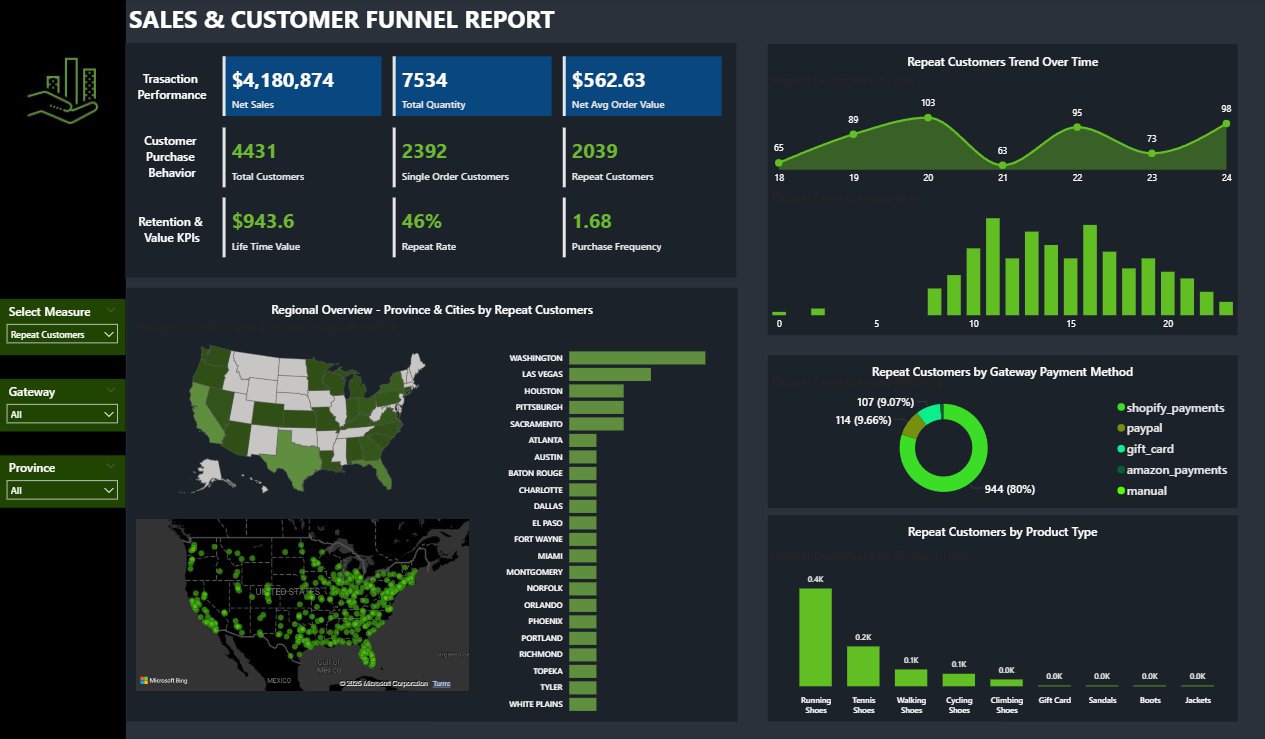

The dashboard page shown, as its layout file describes it:
{"tool":"powerbi","page":{"name":"Shopify Analysis","canvas":[1700,1000],"ordinal":0},"visuals":[{"type":"shape","box":[0,0,170,999],"z":0},{"type":"textbox","box":[169.2,0,754,58.6],"z":1000},{"type":"shape","box":[169.2,58.6,819.4,315],"z":2000},{"type":"cardVisual","fields":{"Data":["shopify_sales.Net Sales","shopify_sales.Total Quantity","shopify_sales.Net Avg Order Value"]},"box":[294.9,72.1,680.3,90.5],"z":3000},{"type":"card","fields":{"Values":["shopify_sales.Transaction Perf"]},"box":[169.2,82.1,125.7,70.4],"z":4000},{"type":"cardVisual","fields":{"Data":["shopify_sales.Total Customers","shopify_sales.Single Order Customers","shopify_sales.Repeat Customers"]},"box":[294.9,166.7,680.3,90.5],"z":5000},{"type":"card","fields":{"Values":["shopify_sales.Customer Purchase Behavior"]},"box":[169.2,160,125.7,93.8],"z":6000},{"type":"cardVisual","fields":{"Data":["shopify_sales.Life Time Value","shopify_sales.Repeat Rate","shopify_sales.Purchase Frequency"]},"box":[294.9,261.4,680.3,90.5],"z":7000},{"type":"card","fields":{"Values":["shopify_sales.Retention & Value KPIs"]},"box":[169.2,261.4,125.7,93.8],"z":8000},{"type":"shape","box":[170.9,387.1,819.4,581.4],"z":9000},{"type":"shapeMap","fields":{"Value":["shopify_sales.Total Customers"],"Category":["shopify_sales.Billing Address Province"]},"box":[179.3,429,455.8,249.7],"z":10000},{"type":"slicer","fields":{"Values":["Select Measure.Select Measure"]},"box":[0,402.1,169.2,75.4],"z":11000},{"type":"map","fields":{"Category":["shopify_sales.Location"]},"box":[179.3,692,455.8,241.3],"z":12000},{"type":"clusteredBarChart","fields":{"Y":["shopify_sales.Total Customers"],"Category":["shopify_sales.CITY"]},"box":[673.6,450.7,315,517.8],"z":13000},{"type":"card","fields":{"Values":["shopify_sales.Map Title"]},"box":[316.7,402.1,527.8,33.5],"z":14000},{"type":"shape","box":[1030.5,60.3,630,390.4],"z":15000},{"type":"areaChart","fields":{"Y":["shopify_sales.Total Customers"],"Category":["shopify_sales.Invoice Date.Variation.Date Hierarchy.Day"]},"box":[1030.5,98.9,630,159.2],"z":16000},{"type":"clusteredColumnChart","fields":{"Y":["shopify_sales.Total Customers"],"Category":["shopify_sales.Hour"]},"box":[1030.5,256.4,630,197.7],"z":17000},{"type":"card","fields":{"Values":["shopify_sales.Trend Title"]},"box":[1204.8,72.1,281.5,26.8],"z":18000},{"type":"shape","box":[1030.5,477.5,630,205],"z":19000},{"type":"donutChart","fields":{"Y":["shopify_sales.Total Customers"],"Category":["shopify_sales.Gateway"]},"box":[1030.5,502.7,630,179.3],"z":20000},{"type":"card","fields":{"Values":["shopify_sales.Gateway Title"]},"box":[1151.1,487.6,388.7,28.5],"z":21000},{"type":"shape","box":[1030.5,692,630,276.5],"z":22000},{"type":"columnChart","fields":{"Y":["shopify_sales.Total Customers"],"Category":["shopify_sales.Product Type"]},"box":[1030.5,735.6,630,232.9],"z":23000},{"type":"card","fields":{"Values":["shopify_sales.Product Title"]},"box":[1142.8,697.1,405.5,38.5],"z":24000},{"type":"slicer","fields":{"Values":["shopify_sales.Gateway"]},"box":[0,509.4,169.2,70.4],"z":26000},{"type":"slicer","fields":{"Values":["shopify_sales.Billing Address Province"]},"box":[0,611.6,169.2,70.4],"z":27000},{"type":"image","box":[23.5,60.3,124,125.7],"z":27001}]}

Visuals, with their boxes in screenshot pixels (x1, y1, x2, y2), scaled from the page's 1700x1000 canvas onto the 1265x739 screenshot:
shape: x1=0 y1=0 x2=126 y2=738
textbox: x1=126 y1=0 x2=687 y2=43
shape: x1=126 y1=43 x2=736 y2=276
cardVisual - shopify_sales.Net Sales x shopify_sales.Total Quantity: x1=219 y1=53 x2=726 y2=120
card - shopify_sales.Transaction Perf: x1=126 y1=61 x2=219 y2=113
cardVisual - shopify_sales.Total Customers x shopify_sales.Single Order Customers: x1=219 y1=123 x2=726 y2=190
card - shopify_sales.Customer Purchase Behavior: x1=126 y1=118 x2=219 y2=188
cardVisual - shopify_sales.Life Time Value x shopify_sales.Repeat Rate: x1=219 y1=193 x2=726 y2=260
card - shopify_sales.Retention & Value KPIs: x1=126 y1=193 x2=219 y2=262
shape: x1=127 y1=286 x2=737 y2=716
shapeMap - shopify_sales.Total Customers x shopify_sales.Billing Address Province: x1=133 y1=317 x2=473 y2=502
slicer - Select Measure.Select Measure: x1=0 y1=297 x2=126 y2=353
map - shopify_sales.Location: x1=133 y1=511 x2=473 y2=690
clusteredBarChart - shopify_sales.Total Customers x shopify_sales.CITY: x1=501 y1=333 x2=736 y2=716
card - shopify_sales.Map Title: x1=236 y1=297 x2=628 y2=322
shape: x1=767 y1=45 x2=1236 y2=333
areaChart - shopify_sales.Total Customers x shopify_sales.Invoice Date.Variation.Date Hierarchy.Day: x1=767 y1=73 x2=1236 y2=191
clusteredColumnChart - shopify_sales.Total Customers x shopify_sales.Hour: x1=767 y1=189 x2=1236 y2=336
card - shopify_sales.Trend Title: x1=897 y1=53 x2=1106 y2=73
shape: x1=767 y1=353 x2=1236 y2=504
donutChart - shopify_sales.Total Customers x shopify_sales.Gateway: x1=767 y1=371 x2=1236 y2=504
card - shopify_sales.Gateway Title: x1=857 y1=360 x2=1146 y2=381
shape: x1=767 y1=511 x2=1236 y2=716
columnChart - shopify_sales.Total Customers x shopify_sales.Product Type: x1=767 y1=544 x2=1236 y2=716
card - shopify_sales.Product Title: x1=850 y1=515 x2=1152 y2=544
slicer - shopify_sales.Gateway: x1=0 y1=376 x2=126 y2=428
slicer - shopify_sales.Billing Address Province: x1=0 y1=452 x2=126 y2=504
image: x1=17 y1=45 x2=110 y2=137
